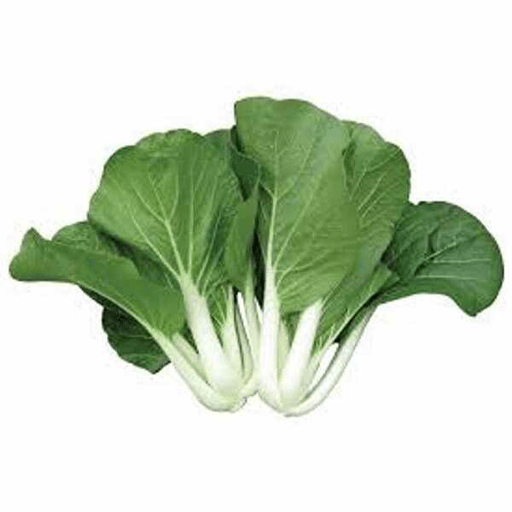Sawi: (84, 110, 423, 419)
